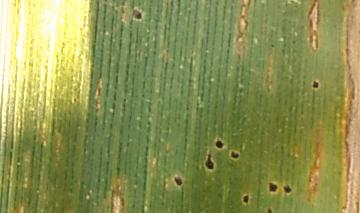tarspot: (203, 152, 217, 171), (266, 180, 280, 195), (130, 8, 144, 21), (240, 194, 253, 207), (171, 175, 185, 187), (228, 149, 242, 160), (214, 137, 225, 150), (263, 206, 282, 213), (310, 79, 322, 90), (283, 184, 295, 195), (271, 43, 274, 48)
